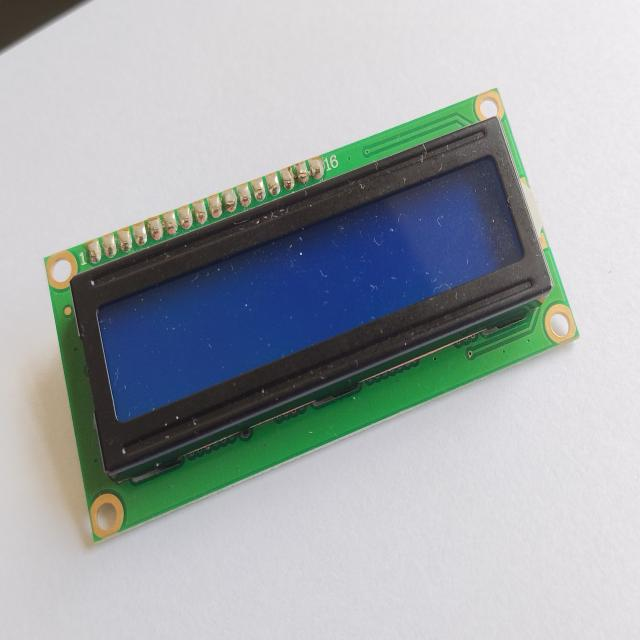lcd: (43, 86, 579, 542)
